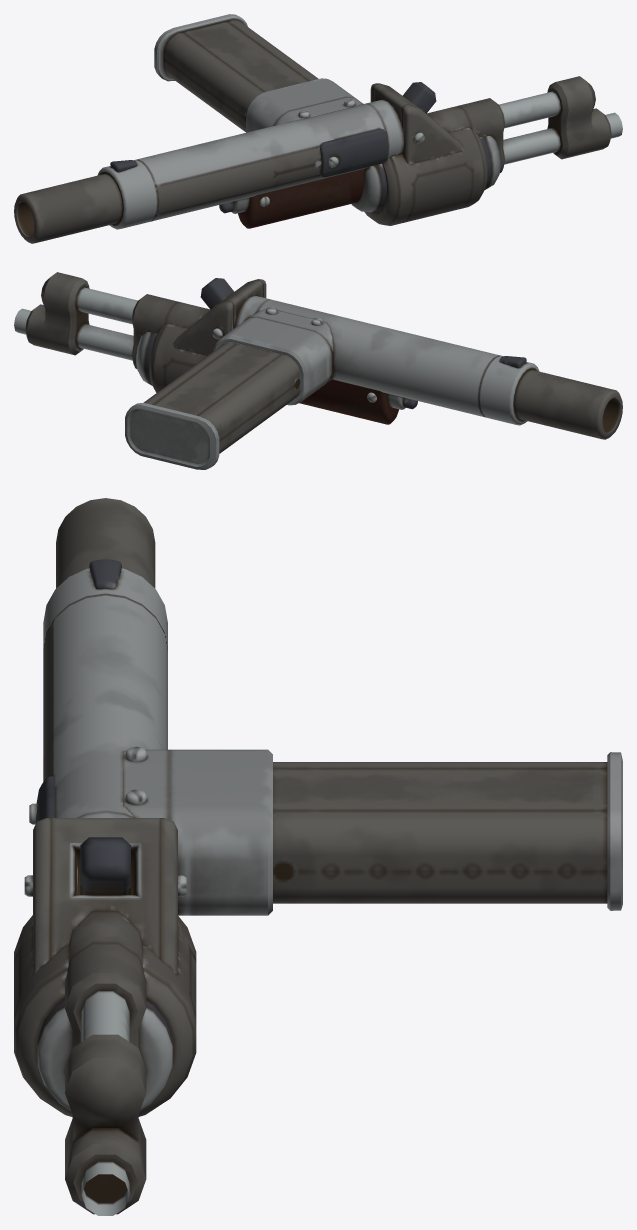
File: R_lower_arm_gun_02_B1.fbx
3 views of the same model, one above another, from view 1: azimuth 30°, elevation 25°; view 2: azimuth 150°, elevation 25°; view 3: azimuth 270°, elevation 25° (orthographic). The views are drawn at different scales.
Visible parts, largest first — view 1: R_lower_arm_gun_02_B1, R_lower_arm_gun_02_B1_Eject, R_lower_arm_gun_02_B1_Hammer; view 2: R_lower_arm_gun_02_B1, R_lower_arm_gun_02_B1_Hammer; view 3: R_lower_arm_gun_02_B1, R_lower_arm_gun_02_B1_Hammer.
Part boxes in pixels (bbox=[...]): R_lower_arm_gun_02_B1: bbox=[14, 14, 622, 243]; R_lower_arm_gun_02_B1_Eject: bbox=[320, 128, 388, 177]; R_lower_arm_gun_02_B1_Hammer: bbox=[402, 82, 436, 113]; R_lower_arm_gun_02_B1: bbox=[14, 272, 622, 469]; R_lower_arm_gun_02_B1_Hammer: bbox=[200, 278, 234, 309]; R_lower_arm_gun_02_B1: bbox=[14, 498, 622, 1215]; R_lower_arm_gun_02_B1_Hammer: bbox=[80, 837, 130, 894].
Bounding box in the file's own units: 88.58 × 18.29 × 40.81.
